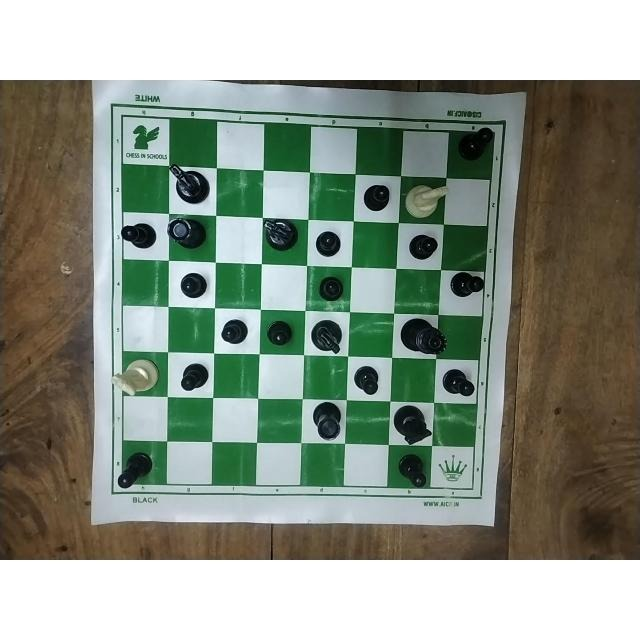black-knight: (167, 162, 214, 206), (387, 403, 433, 445), (262, 215, 301, 253), (308, 317, 346, 355)
black-pawn: (114, 449, 153, 489), (456, 124, 494, 158), (117, 224, 163, 252), (441, 364, 477, 399), (449, 268, 487, 300), (174, 359, 209, 393), (404, 229, 440, 261), (396, 452, 428, 487), (174, 269, 208, 301), (352, 362, 380, 397), (221, 317, 253, 347), (266, 317, 296, 348), (359, 183, 392, 211), (314, 227, 344, 257), (318, 273, 344, 303)
black-queen: (400, 315, 448, 358)
black-rook: (302, 399, 340, 442), (167, 216, 208, 252)
white-knight: (110, 355, 166, 401), (402, 178, 450, 220)
